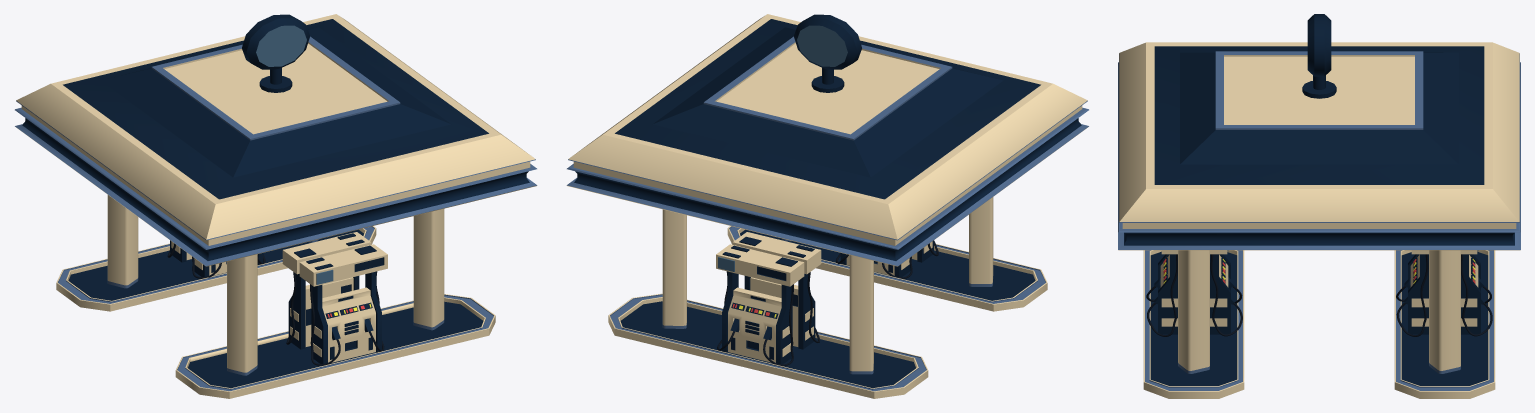
Rendered from infrastructure-building-gas-station.fbx.
The picture shows the model from 3 angles, left to right: view 1: azimuth 30°, elevation 25°; view 2: azimuth 150°, elevation 25°; view 3: azimuth 270°, elevation 25°; orthographic projection. The views are drawn at different scales.
Visible parts, largest first — view 1: infrastructure-building-gas-station; view 2: infrastructure-building-gas-station; view 3: infrastructure-building-gas-station.
Part boxes in pixels (<box>): infrastructure-building-gas-station: <box>15,14,537,398</box>; infrastructure-building-gas-station: <box>566,14,1088,398</box>; infrastructure-building-gas-station: <box>1118,14,1520,398</box>.
Bounding box in the file's own units: 12.47 × 10.4 × 12.47.
